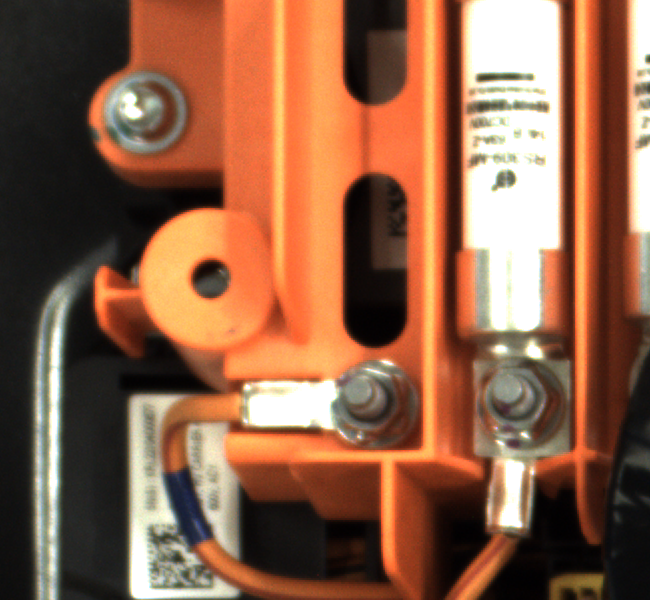screw_m: (94, 66, 210, 174)
screw_s: (471, 354, 565, 454), (335, 359, 410, 442)
